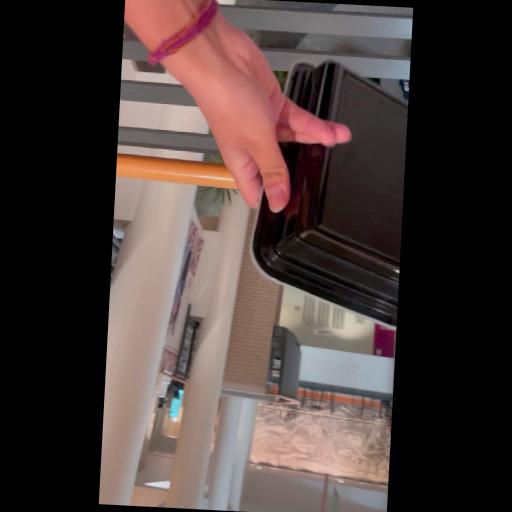rigid_plastic_container: (244, 56, 410, 331)
